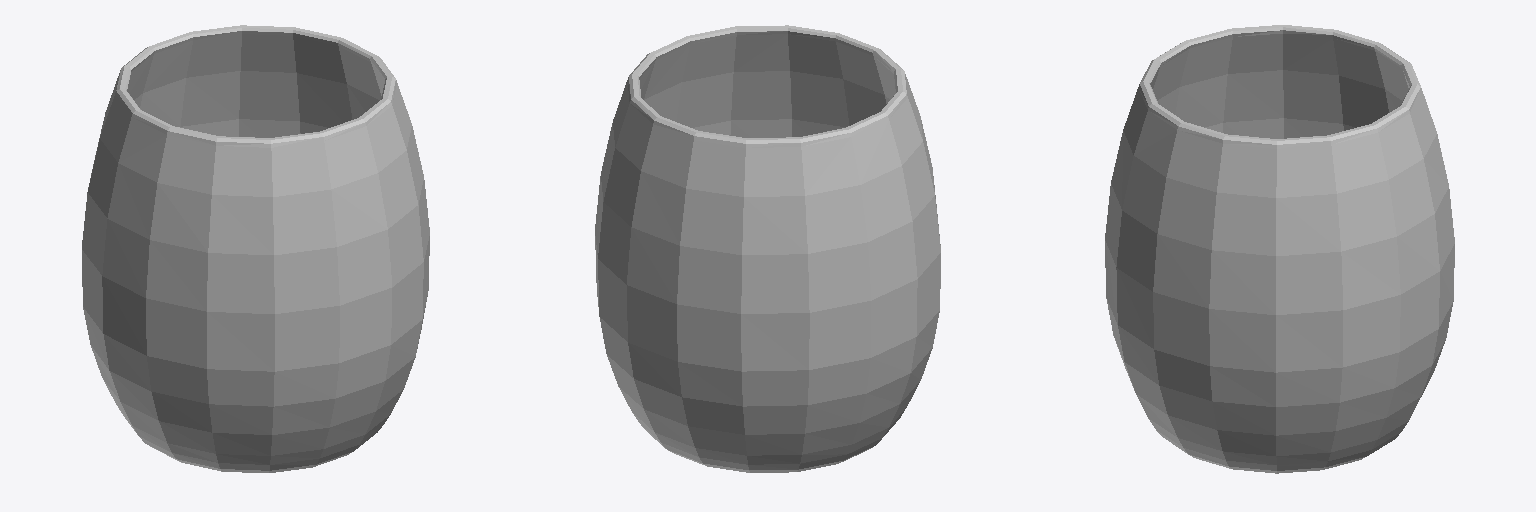
Rendered from glass 2.obj.
3 views of the same model, side by side, from view 1: azimuth 30°, elevation 25°; view 2: azimuth 150°, elevation 25°; view 3: azimuth 270°, elevation 25° (orthographic).
Visible parts, largest first — view 1: Mesh1 G_3DGeom_1 AI30_005_gadget_003_01 Model; view 2: Mesh1 G_3DGeom_1 AI30_005_gadget_003_01 Model; view 3: Mesh1 G_3DGeom_1 AI30_005_gadget_003_01 Model.
Part boxes in pixels (bbox=[...]): Mesh1 G_3DGeom_1 AI30_005_gadget_003_01 Model: bbox=[82, 25, 429, 472]; Mesh1 G_3DGeom_1 AI30_005_gadget_003_01 Model: bbox=[595, 25, 940, 472]; Mesh1 G_3DGeom_1 AI30_005_gadget_003_01 Model: bbox=[1105, 25, 1454, 473].
Size of the model in its own units: 24.22 by 26.47 by 24.21.